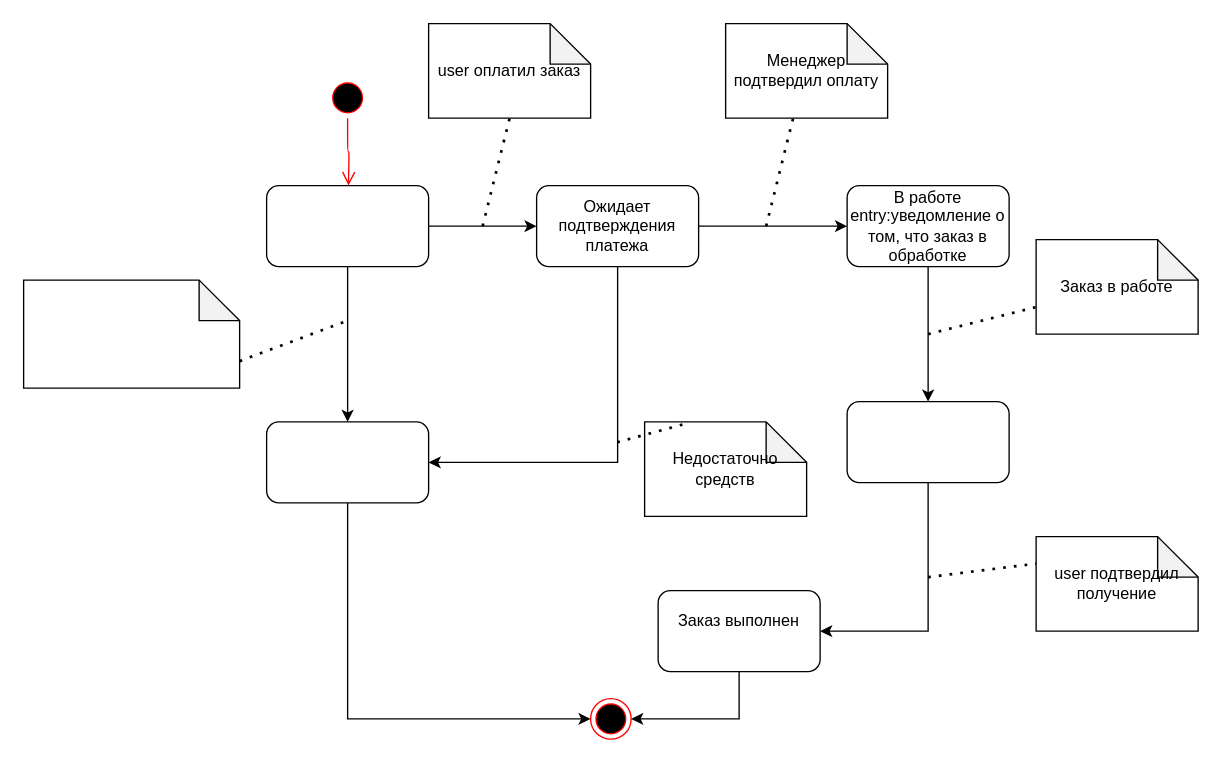
The diagram is 1222 pixels wide and 763 high, and some of its shapes have lost their labels. Each missing label, with the centre of its shape:
"user отменил заказ Условие: user может отменять только свой заказ" goes at pixel 131 333.
"Заказ создан" goes at pixel 347 225.
"Заправка топливом" goes at pixel 927 441.
"Отмена entry: Отменить транзакцию" goes at pixel 347 462.
